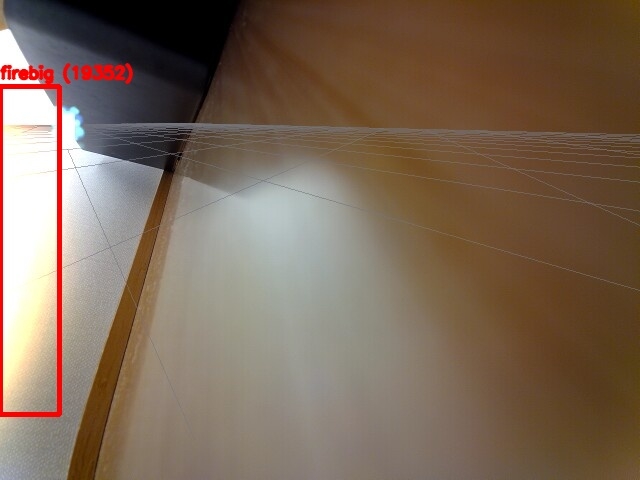firebig: (0, 86, 59, 414)
